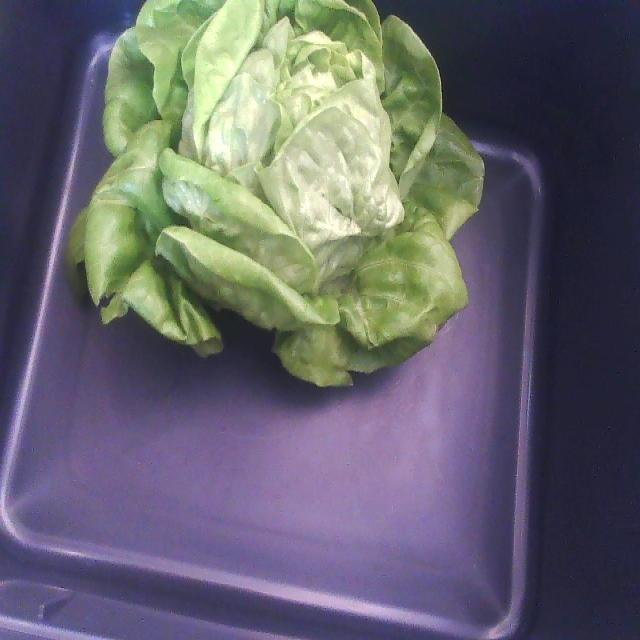lettuce: (70, 0, 484, 387)
